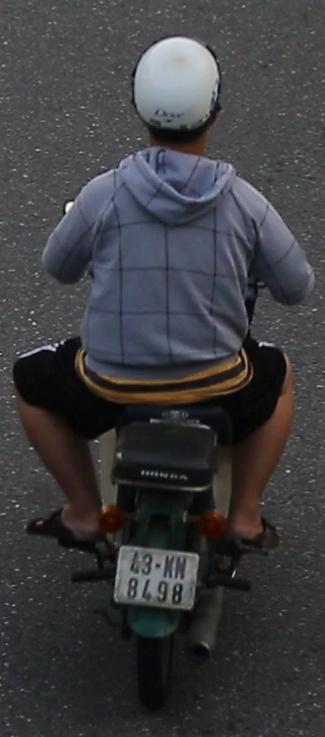LP: (112, 541, 204, 615)
helmet: (128, 30, 227, 174)
